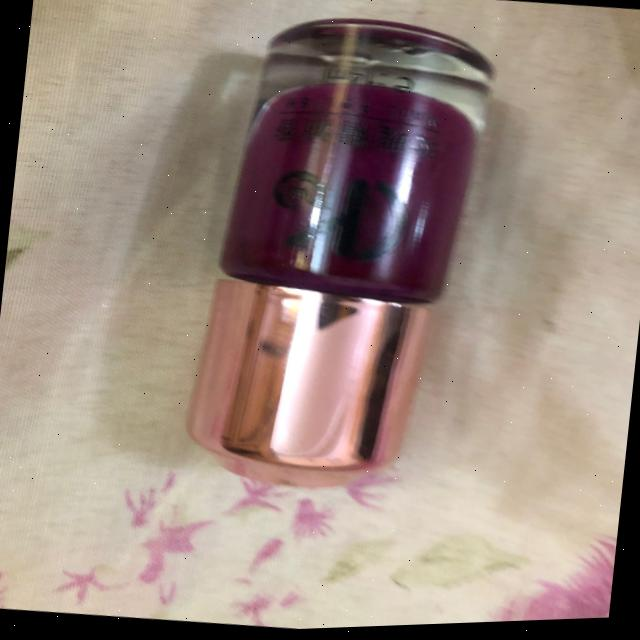Tint: (178, 0, 486, 526)
